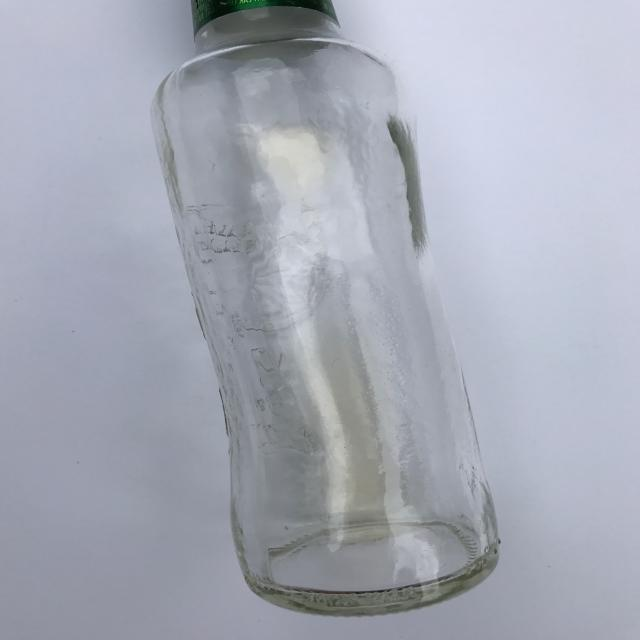glass: (150, 0, 502, 617)
